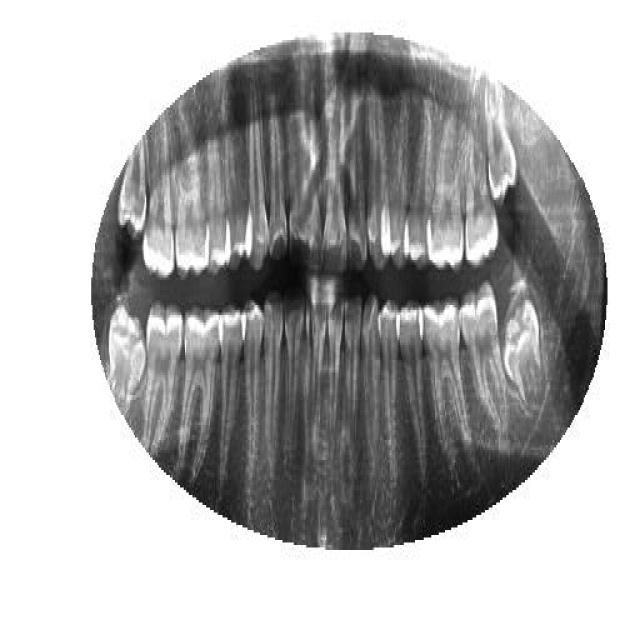Impacted Tooth: (498, 290, 544, 408), (105, 302, 147, 412), (483, 78, 518, 208)
